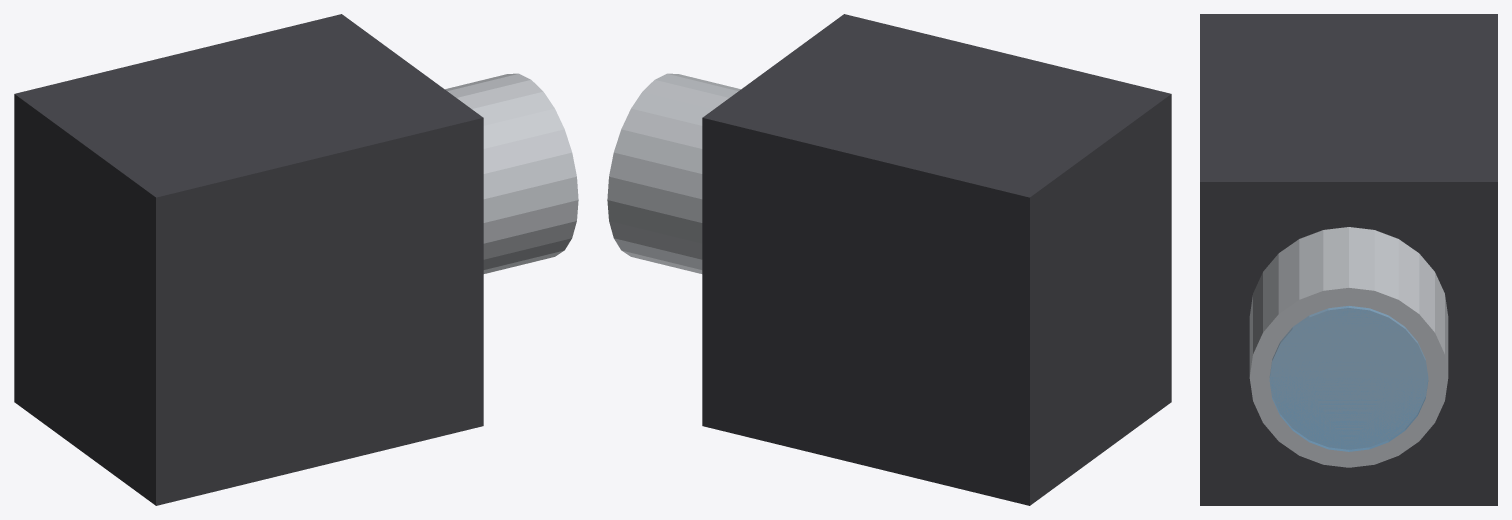
The model's file is camera_module.glb.
3 views of the same model, side by side, from view 1: azimuth 30°, elevation 25°; view 2: azimuth 150°, elevation 25°; view 3: azimuth 270°, elevation 25° (orthographic). The views are drawn at different scales.
Visible parts, largest first — view 1: Body, Bracket, Barrel; view 2: Body, Bracket, Barrel; view 3: Body, Barrel, Lens, Bracket.
Part boxes in pixels (x1,y1,x2,y2): Body: [14, 14, 483, 454]; Bracket: [14, 351, 483, 505]; Barrel: [445, 73, 578, 273]; Body: [702, 14, 1171, 454]; Bracket: [702, 351, 1171, 505]; Barrel: [607, 73, 740, 273]; Body: [1200, 14, 1497, 451]; Barrel: [1249, 227, 1448, 467]; Lens: [1269, 306, 1428, 451]; Bracket: [1200, 452, 1497, 505].
Bounding box in the file's own units: 0.055 × 0.036 × 0.03.
